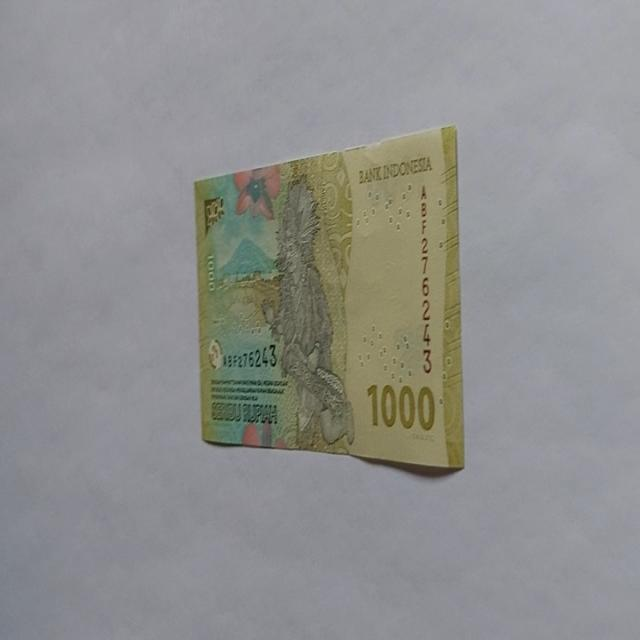seribu rupiah kertas: (192, 122, 464, 472)
